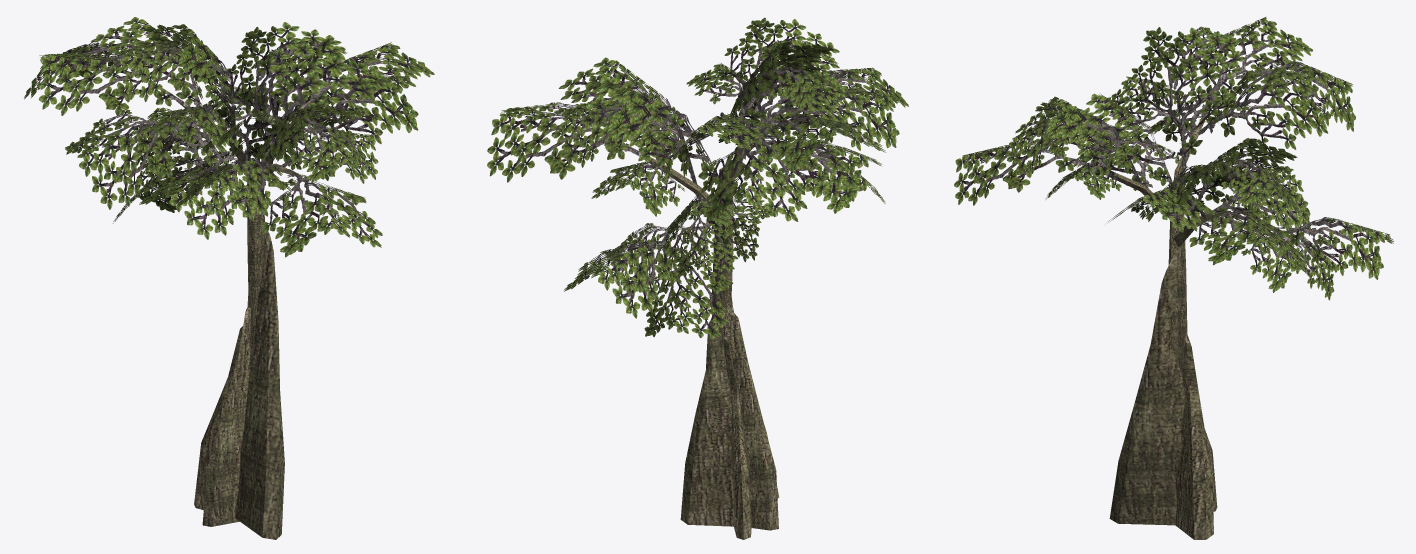
Rendered from tropic_forest_biome_tree_0.glb.
3 views of the same model, side by side, from view 1: azimuth 30°, elevation 25°; view 2: azimuth 150°, elevation 25°; view 3: azimuth 270°, elevation 25° (orthographic). The views are drawn at different scales.
Visible parts, largest first — view 1: tropic_forest_biome_tree_0; view 2: tropic_forest_biome_tree_0; view 3: tropic_forest_biome_tree_0.
Part boxes in pixels (x1,y1,x2,y2): tropic_forest_biome_tree_0: (24, 17, 434, 539); tropic_forest_biome_tree_0: (487, 17, 908, 539); tropic_forest_biome_tree_0: (954, 16, 1393, 539).
Size of the model in its own units: 8.39 by 9.9 by 8.54.
Materials: 1 (1 with a texture image).
